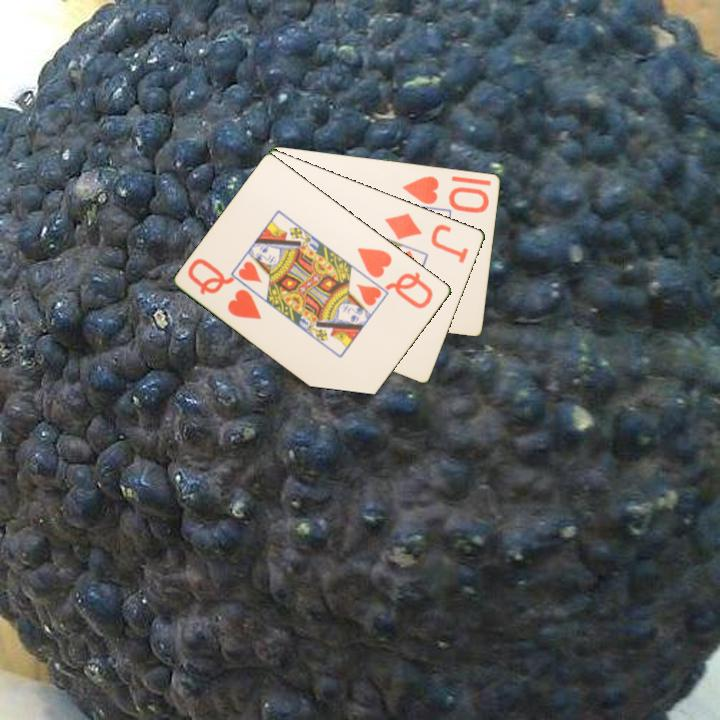10h: (399, 172, 492, 214)
Jd: (381, 209, 472, 266)
Qh: (354, 244, 437, 312), (184, 255, 265, 322)
